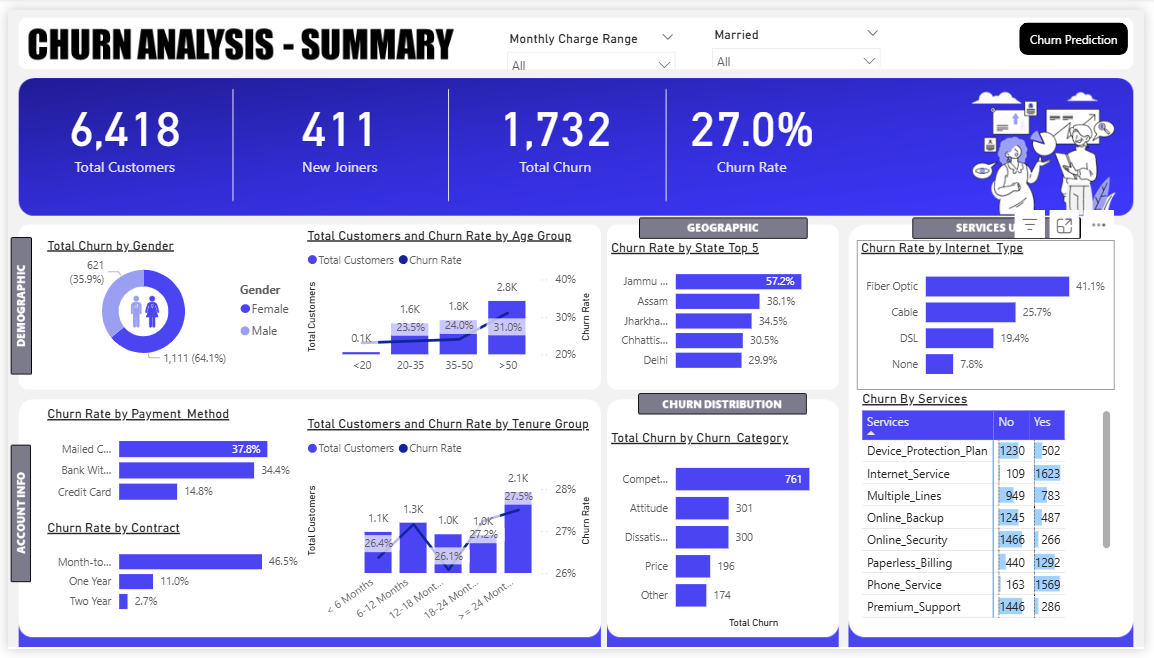

What the dashboard file says about the page in this screenshot:
{"tool":"powerbi","page":{"name":"Churn Summary","canvas":[1280,720],"ordinal":0},"visuals":[{"type":"image","box":[122.6,311.6,63.5,56.3],"z":0},{"type":"card","fields":{"Values":["tbl_Measures.Total Customers"]},"box":[11.5,73.6,240.9,129.8],"z":1000},{"type":"card","fields":{"Values":["tbl_Measures.New Joiners"]},"box":[252.5,73.6,243.8,129.8],"z":2000},{"type":"card","fields":{"Values":["tbl_Measures.Total Churn"]},"box":[496.3,73.6,242.4,129.8],"z":3000},{"type":"card","fields":{"Values":["tbl_Measures.Churn Rate"]},"box":[738.7,73.6,200.5,129.8],"z":4000},{"type":"lineStackedColumnComboChart","fields":{"Category":["mapping_AgeGrp.Age Group"],"Y":["tbl_Measures.Total Customers"],"Y2":["tbl_Measures.Churn Rate"]},"box":[331.8,245.3,330.4,173.1],"z":5000},{"type":"clusteredBarChart","fields":{"Category":["prod_Churn.Payment_Method"],"Y":["tbl_Measures.Churn Rate"]},"box":[39,445.8,292.9,121.2],"z":6000},{"type":"clusteredBarChart","fields":{"Category":["prod_Churn.Contract"],"Y":["tbl_Measures.Churn Rate"]},"box":[39,574.2,292.9,115.4],"z":7000},{"type":"lineStackedColumnComboChart","fields":{"Category":["mapping_TenureGrp.Tenure Group"],"Y":["tbl_Measures.Total Customers"],"Y2":["tbl_Measures.Churn Rate"]},"box":[331.8,457.4,330.4,243.8],"z":8000},{"type":"clusteredBarChart","title":"Churn Rate by State Top 5","fields":{"Category":["prod_Churn.State"],"Y":["tbl_Measures.Churn Rate"]},"box":[675.2,259.7,258.3,158.7],"z":9000},{"type":"clusteredBarChart","fields":{"Category":["prod_Churn.Churn_Category"],"Y":["tbl_Measures.Total Churn"]},"box":[675.2,473.2,258.3,228],"z":10000},{"type":"clusteredBarChart","fields":{"Category":["prod_Churn.Internet_Type"],"Y":["tbl_Measures.Churn Rate"]},"box":[956.6,259.7,290,168.8],"z":11000},{"type":"pivotTable","title":"Churn By Services","fields":{"Rows":["prod_services.Services"],"Columns":["prod_services.Status"],"Values":["Sum(prod_services.Churn Status)"]},"box":[957.1,429.5,289.6,260.1],"z":12000},{"type":"slicer","fields":{"Values":["prod_Churn.Monthly Charge Status"]},"box":[552.2,18.4,210,50],"z":13000},{"type":"slicer","fields":{"Values":["prod_Churn.Married"]},"box":[782.8,13.5,210,50],"z":14000},{"type":"donutChart","fields":{"Category":["prod_Churn.Gender"],"Y":["tbl_Measures.Total Churn"]},"box":[39,256.8,292.9,150],"z":15000},{"type":"shape","box":[1139.9,13.5,122.7,36.8],"z":16000}]}

Visuals, with their boxes in screenshot pixels (x1, y1, x2, y2), scaled from the page's 1280x720 canvas onto the 1154x658 screenshot:
image: {"left": 111, "top": 285, "right": 168, "bottom": 336}
card - tbl_Measures.Total Customers: {"left": 10, "top": 67, "right": 228, "bottom": 186}
card - tbl_Measures.New Joiners: {"left": 228, "top": 67, "right": 447, "bottom": 186}
card - tbl_Measures.Total Churn: {"left": 447, "top": 67, "right": 666, "bottom": 186}
card - tbl_Measures.Churn Rate: {"left": 666, "top": 67, "right": 847, "bottom": 186}
lineStackedColumnComboChart - mapping_AgeGrp.Age Group x tbl_Measures.Total Customers: {"left": 299, "top": 224, "right": 597, "bottom": 382}
clusteredBarChart - prod_Churn.Payment_Method x tbl_Measures.Churn Rate: {"left": 35, "top": 407, "right": 299, "bottom": 518}
clusteredBarChart - prod_Churn.Contract x tbl_Measures.Churn Rate: {"left": 35, "top": 525, "right": 299, "bottom": 630}
lineStackedColumnComboChart - mapping_TenureGrp.Tenure Group x tbl_Measures.Total Customers: {"left": 299, "top": 418, "right": 597, "bottom": 641}
"Churn Rate by State Top 5" clusteredBarChart: {"left": 609, "top": 237, "right": 842, "bottom": 382}
clusteredBarChart - prod_Churn.Churn_Category x tbl_Measures.Total Churn: {"left": 609, "top": 432, "right": 842, "bottom": 641}
clusteredBarChart - prod_Churn.Internet_Type x tbl_Measures.Churn Rate: {"left": 862, "top": 237, "right": 1124, "bottom": 392}
"Churn By Services" pivotTable: {"left": 863, "top": 393, "right": 1124, "bottom": 630}
slicer - prod_Churn.Monthly Charge Status: {"left": 498, "top": 17, "right": 687, "bottom": 63}
slicer - prod_Churn.Married: {"left": 706, "top": 12, "right": 895, "bottom": 58}
donutChart - prod_Churn.Gender x tbl_Measures.Total Churn: {"left": 35, "top": 235, "right": 299, "bottom": 372}
shape: {"left": 1028, "top": 12, "right": 1138, "bottom": 46}
